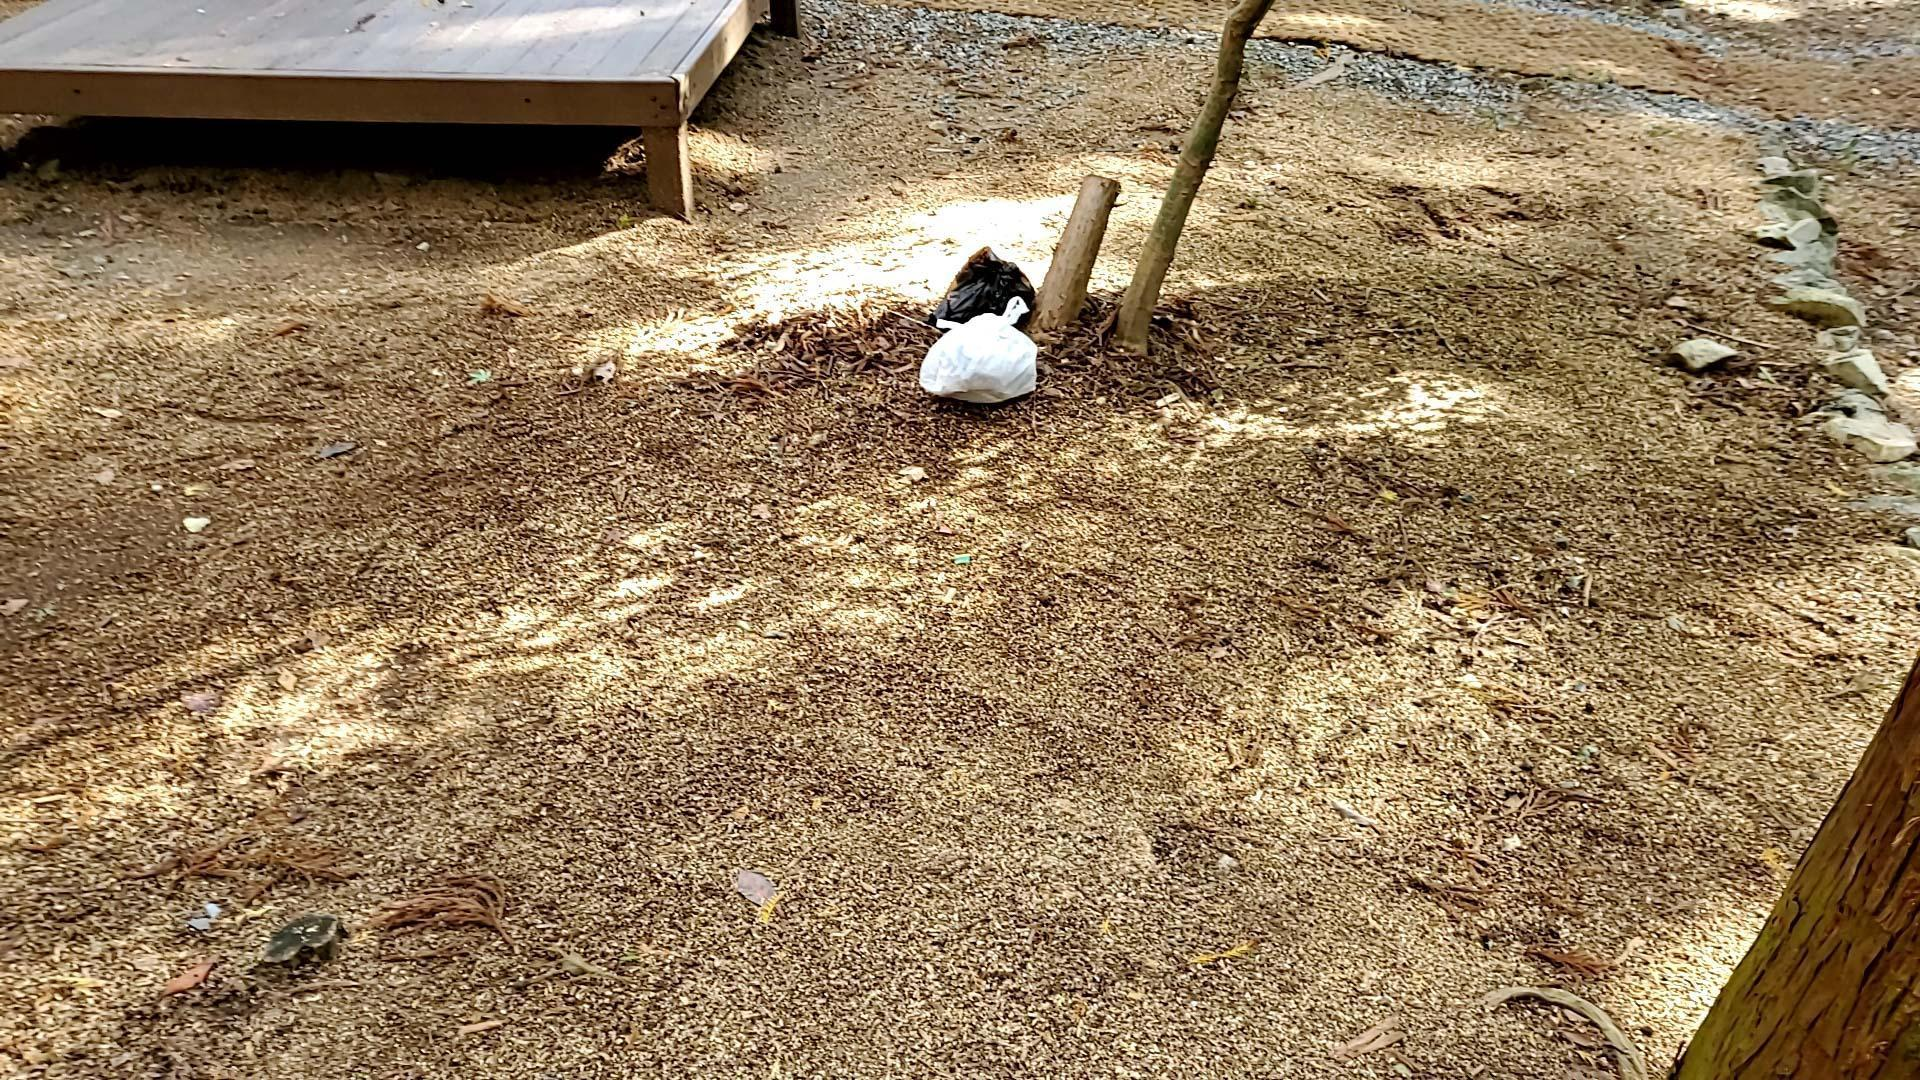black_bag: (924, 244, 1036, 342)
white_bag: (903, 287, 1044, 410)
